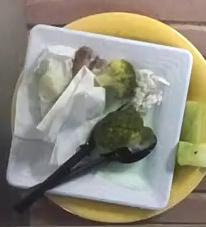broccoli: (88, 56, 169, 164)
fruit: (177, 101, 206, 167)
